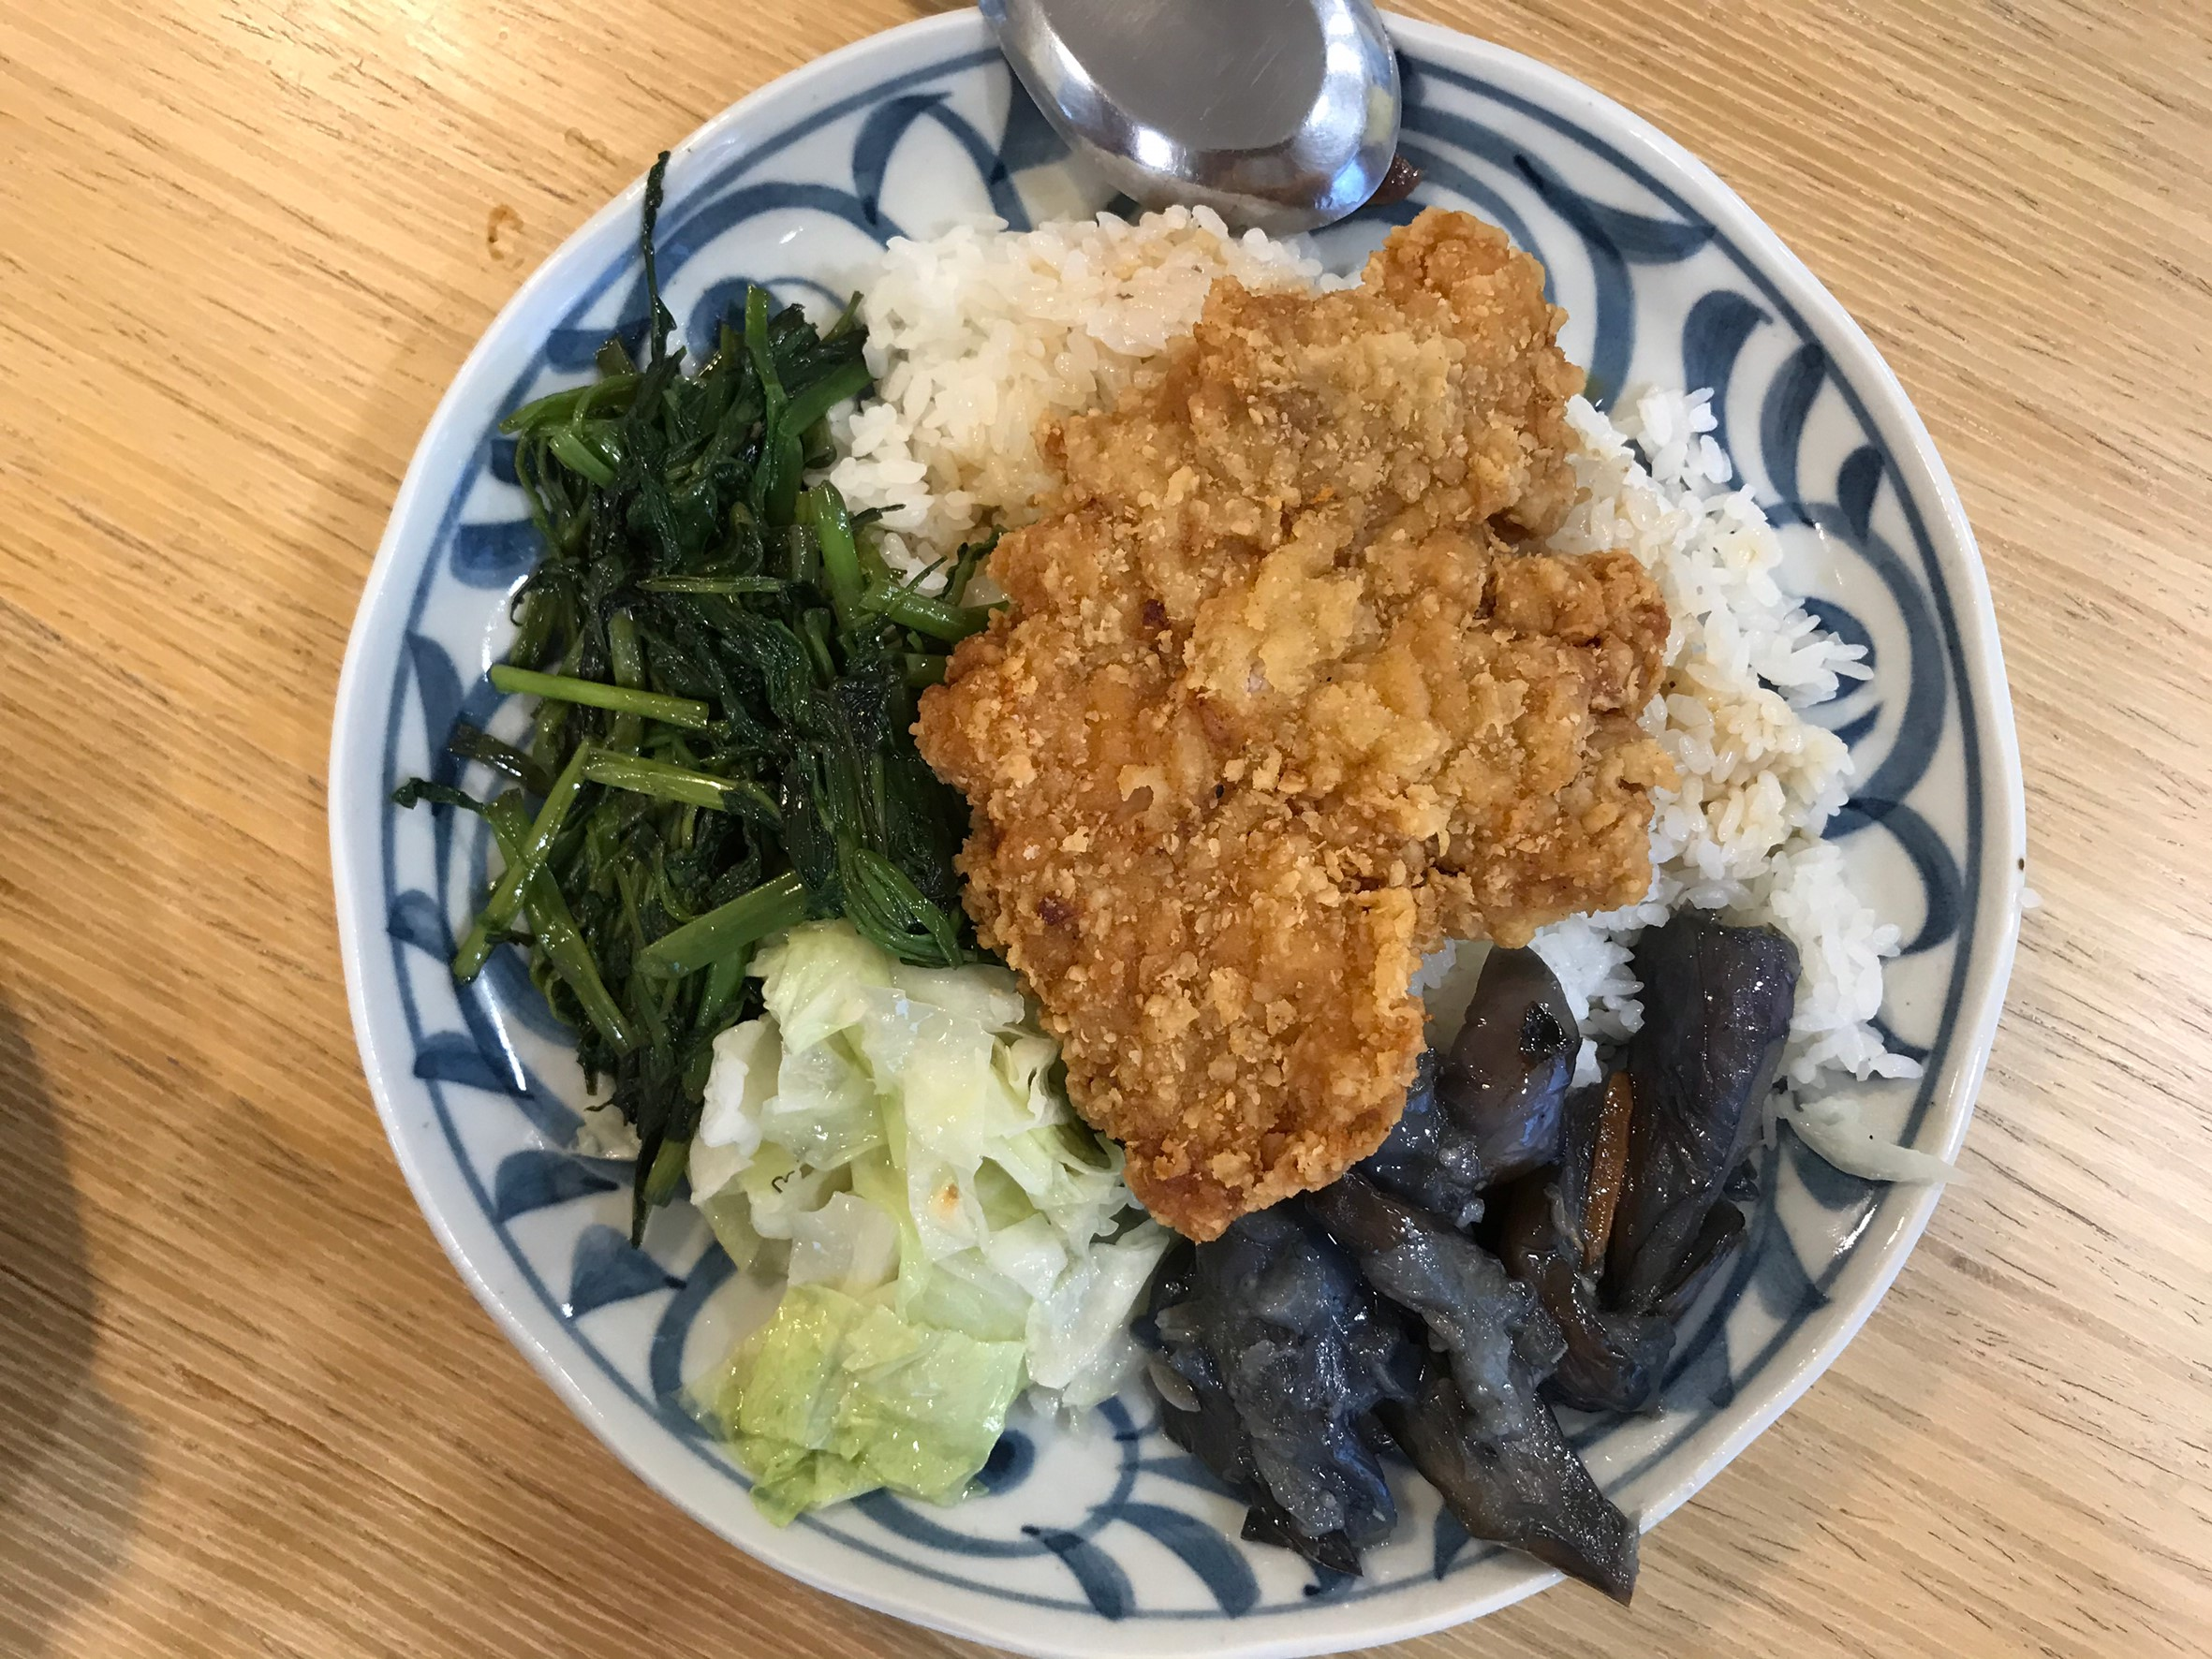chinese_cabbage: (737, 997, 1044, 1488)
fried_chicken: (976, 268, 1632, 1199)
rice: (865, 213, 1163, 443)
water_spinach: (488, 298, 873, 985)
